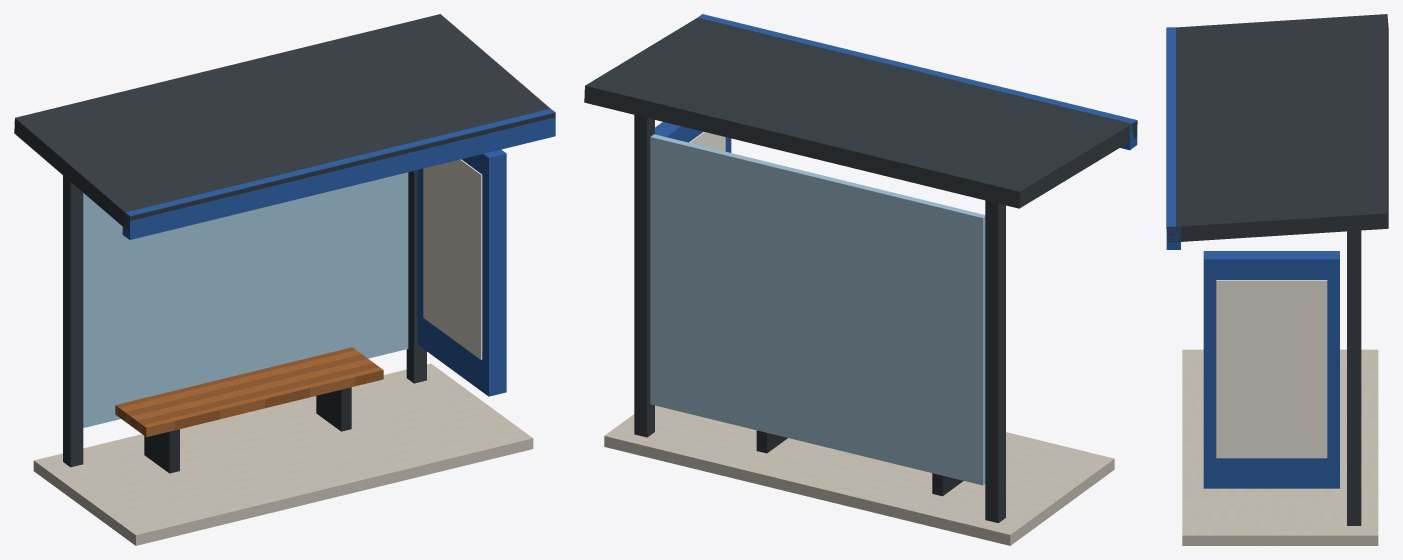
Rendered from bus-shelter-lod0.glb.
3 views of the same model, side by side, from view 1: azimuth 30°, elevation 25°; view 2: azimuth 150°, elevation 25°; view 3: azimuth 270°, elevation 25° (orthographic). The views are drawn at different scales.
Visible parts, largest first — view 1: bus-shelter-lod0; view 2: bus-shelter-lod0; view 3: bus-shelter-lod0.
Part boxes in pixels (x1,y1,x2,y2): bus-shelter-lod0: (14, 14, 555, 545); bus-shelter-lod0: (584, 14, 1137, 545); bus-shelter-lod0: (1166, 14, 1388, 545).
Size of the model in its own units: 3.32 by 2.63 by 1.56.
Materials: 1 (1 with a texture image).
